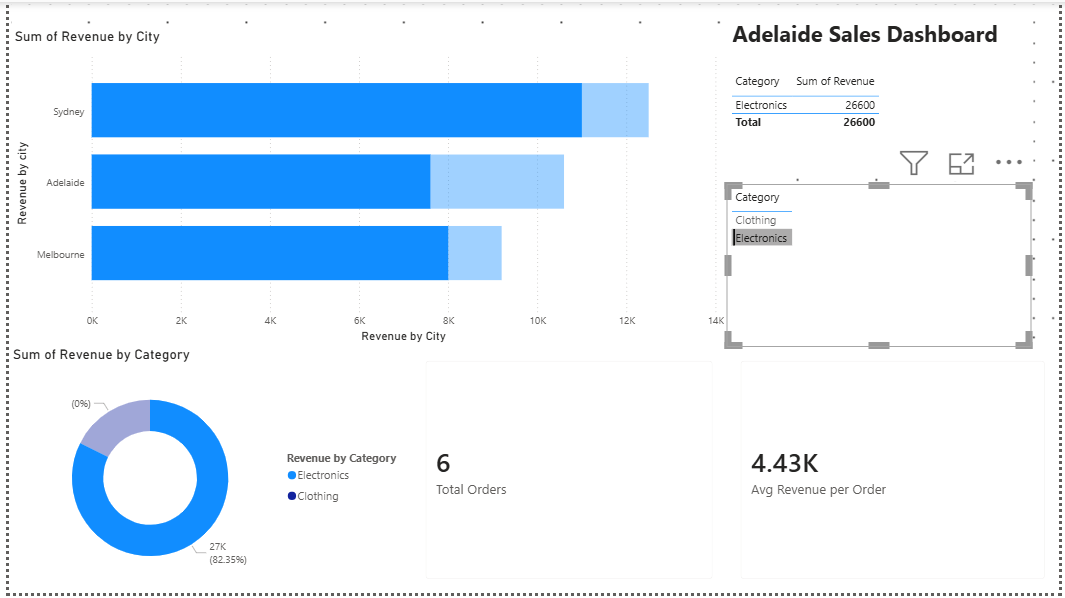

The page's visual inventory and layout, read from the dashboard file:
{"tool":"powerbi","page":{"name":"Page 1","canvas":[1280,720],"ordinal":0},"visuals":[{"type":"clusteredBarChart","fields":{"Category":["Sheet1.City"],"Y":["Sum(Sheet1.Revenue)"]},"box":[2,32,874,388],"z":0},{"type":"donutChart","fields":{"Category":["Sheet1.Category"],"Y":["Sum(Sheet1.Revenue)"]},"box":[0,388,490,332],"z":1000},{"type":"tableEx","fields":{"Values":["Sheet1.Category","Sum(Sheet1.Revenue)"]},"box":[874,80,374,114],"z":2000},{"type":"cardVisual","fields":{"Data":["Sheet1.Avg Revenue per Order"]},"box":[790,420,490,300],"z":2001},{"type":"cardVisual","fields":{"Data":["Sheet1.Total Orders"]},"box":[490,388,412,332],"z":2002},{"type":"textbox","box":[876,14,372,66],"z":2003},{"type":"tableEx","fields":{"Values":["Sheet1.Category"]},"box":[876,194,372,198],"z":2004}]}

Visuals, with their boxes in screenshot pixels (x1, y1, x2, y2), scaled from the page's 1280x720 canvas onto the 1065x598 screenshot:
clusteredBarChart - Sheet1.City x Sum(Sheet1.Revenue): 2, 27, 729, 349
donutChart - Sheet1.Category x Sum(Sheet1.Revenue): 0, 322, 408, 597
tableEx - Sheet1.Category x Sum(Sheet1.Revenue): 727, 66, 1038, 161
cardVisual - Sheet1.Avg Revenue per Order: 657, 349, 1064, 597
cardVisual - Sheet1.Total Orders: 408, 322, 750, 597
textbox: 729, 12, 1038, 66
tableEx - Sheet1.Category: 729, 161, 1038, 326
